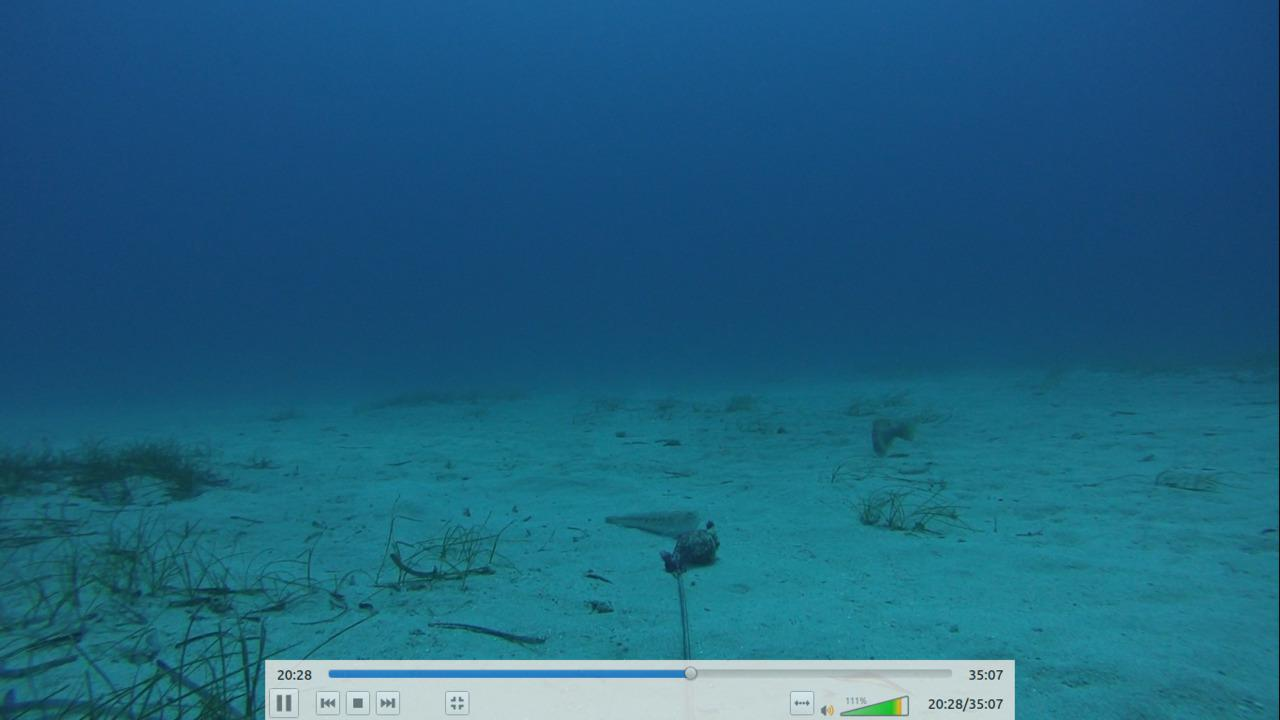raor: (862, 410, 924, 456)
